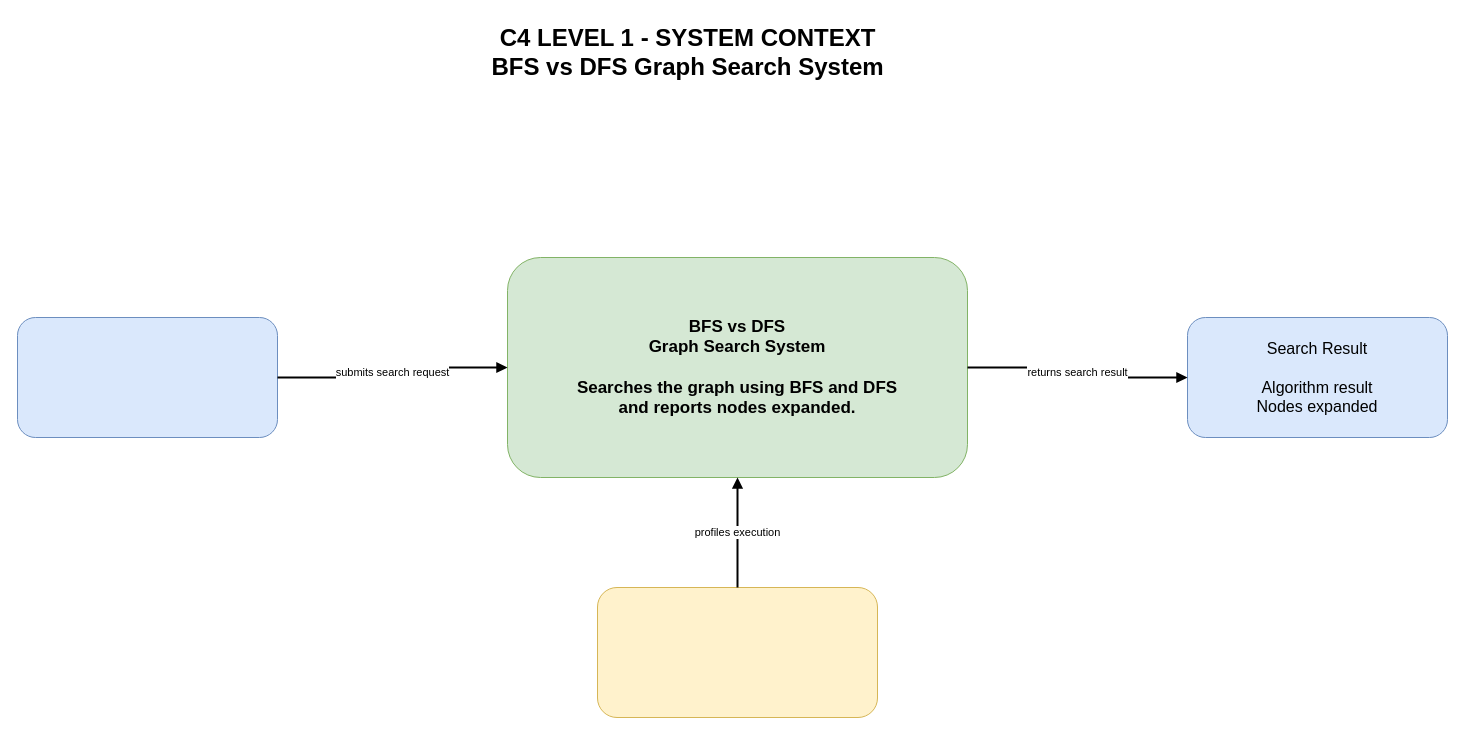
This 1465x735 diagram has some shape labels left out. Here are the shapes that lost their labels. From the top down, the box of each, then its label:
(16, 316, 278, 438): Search Request Requests BFS or DFS graph search
(596, 586, 878, 718): py-spy Python Profiling Tool Observes BFS and DFS execution
